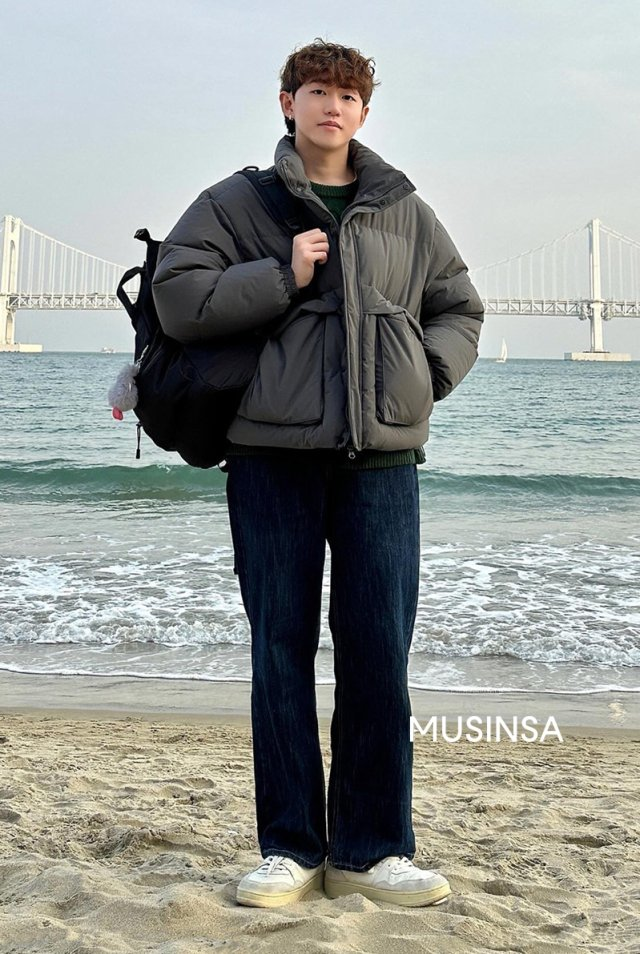Backpack: (118, 230, 267, 466)
Bubble jacket: (157, 132, 488, 458)
Jeans: (222, 436, 432, 865)
Shoes: (233, 846, 462, 921)
